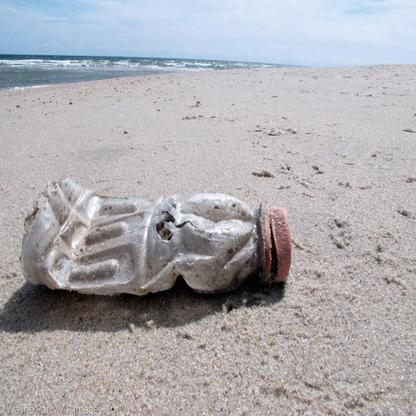plastic bottle: (22, 179, 292, 297)
